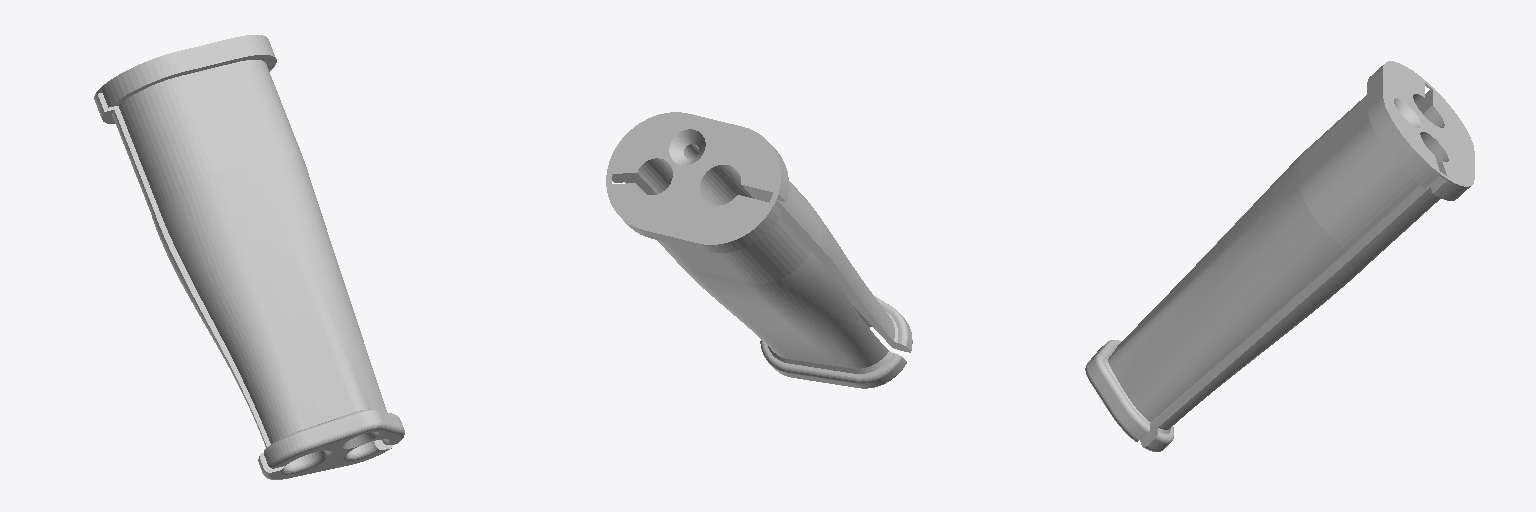
Rendered from [TPU] Strain Relief Right 4mm.obj.
3 renders of one model, left to right at view 1: azimuth 30°, elevation 25°; view 2: azimuth 150°, elevation 25°; view 3: azimuth 270°, elevation 25°, orthographic.
Parts seen in each view (by area): view 1: [TPU] Strain Relief Right 4mm; view 2: [TPU] Strain Relief Right 4mm; view 3: [TPU] Strain Relief Right 4mm.
Part boxes in pixels (x1,y1,x2,y2): [TPU] Strain Relief Right 4mm: (94, 35, 404, 479); [TPU] Strain Relief Right 4mm: (606, 112, 912, 388); [TPU] Strain Relief Right 4mm: (1085, 61, 1474, 451).
Bounding box in the file's own units: 17.17 × 34.31 × 34.9.